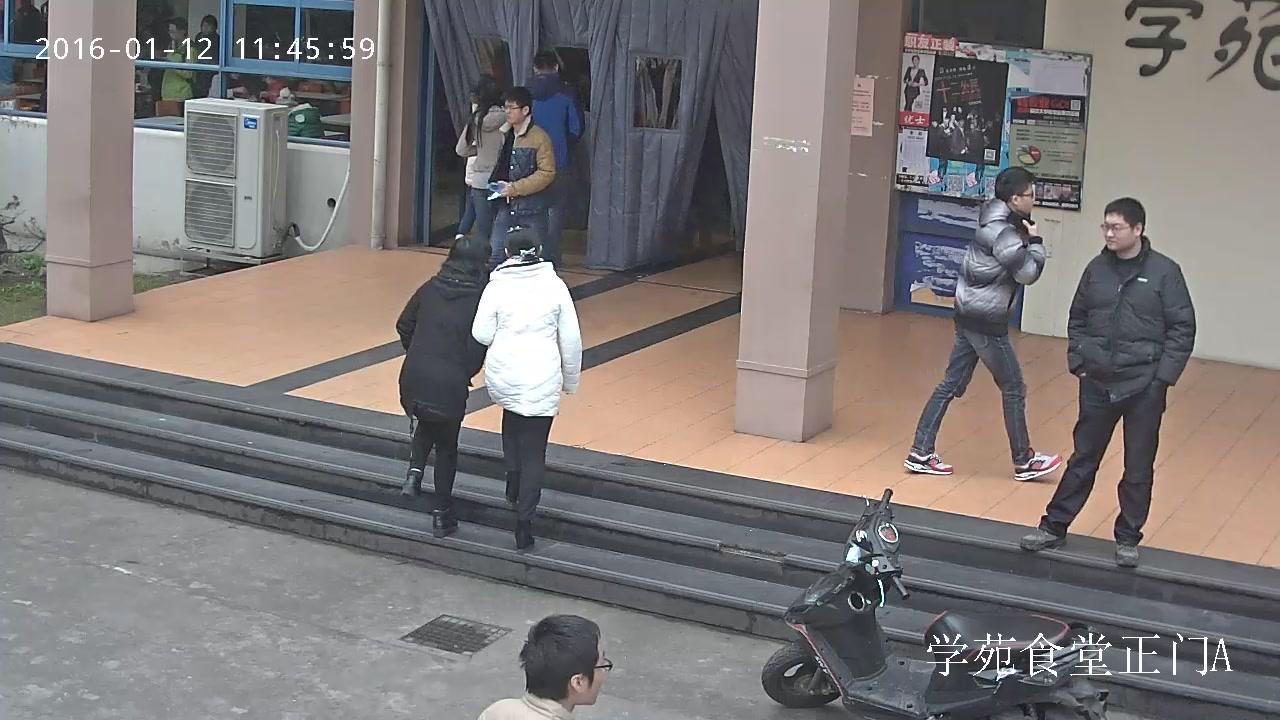person: (1020, 196, 1195, 565), (902, 165, 1063, 482), (471, 223, 583, 547), (395, 235, 493, 536), (477, 614, 613, 720), (485, 85, 556, 268), (522, 47, 580, 264), (455, 83, 507, 238), (161, 16, 193, 101), (194, 13, 219, 97), (286, 93, 324, 138), (903, 54, 928, 111), (259, 74, 282, 103)
